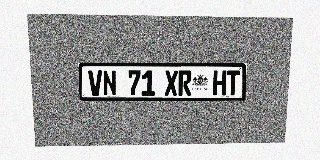1: (141, 70, 155, 96)
7: (127, 70, 141, 96)
H: (213, 70, 226, 95)
N: (102, 70, 117, 96)
R: (178, 70, 192, 96)
T: (226, 70, 240, 95)
V: (88, 70, 103, 96)
X: (164, 70, 178, 96)
